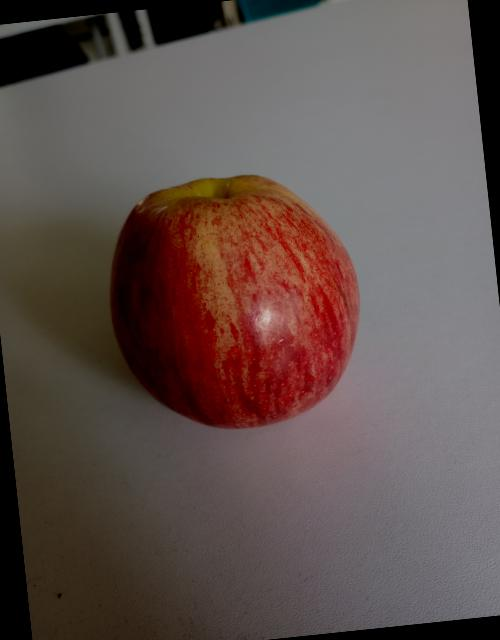Manzana: (74, 134, 391, 503)
